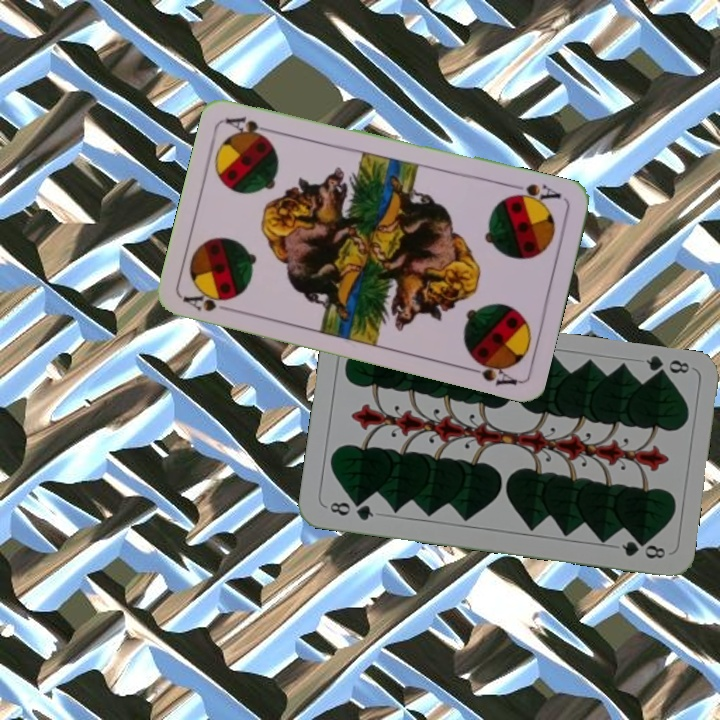G8: (641, 352, 692, 381), (323, 497, 376, 523)
SA: (179, 284, 239, 316), (505, 179, 564, 208)
